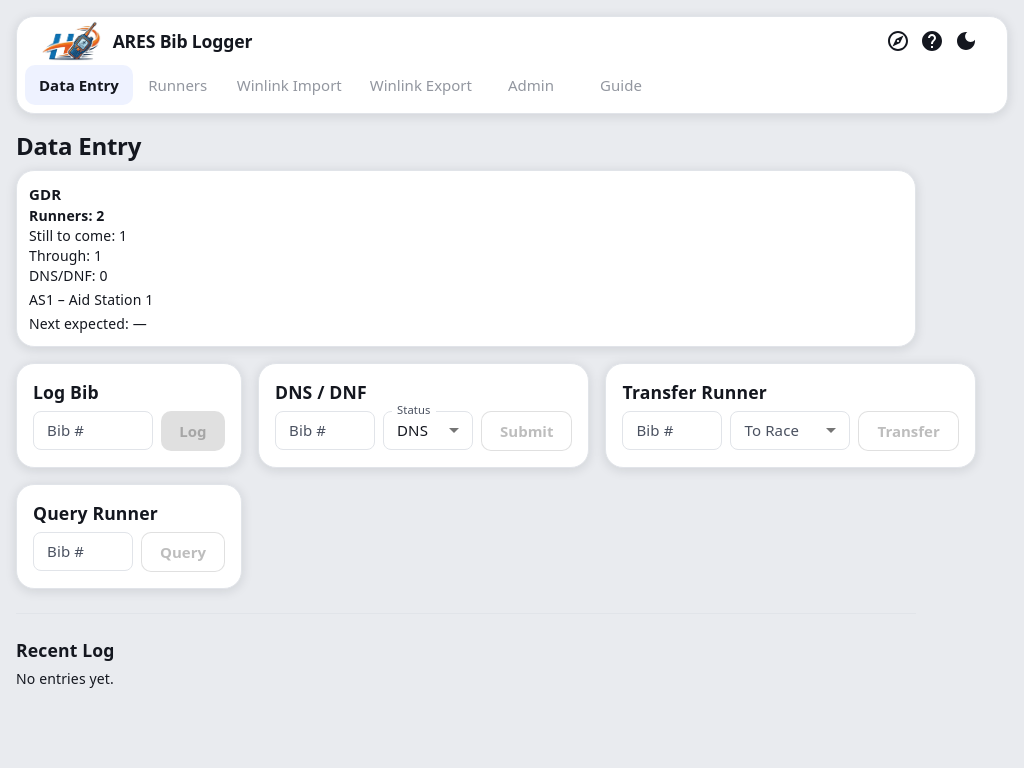
Test: App › switches to Winlink Import tab on click
Click the tab "Winlink Import" at (289, 85), box [223,65,356,105]
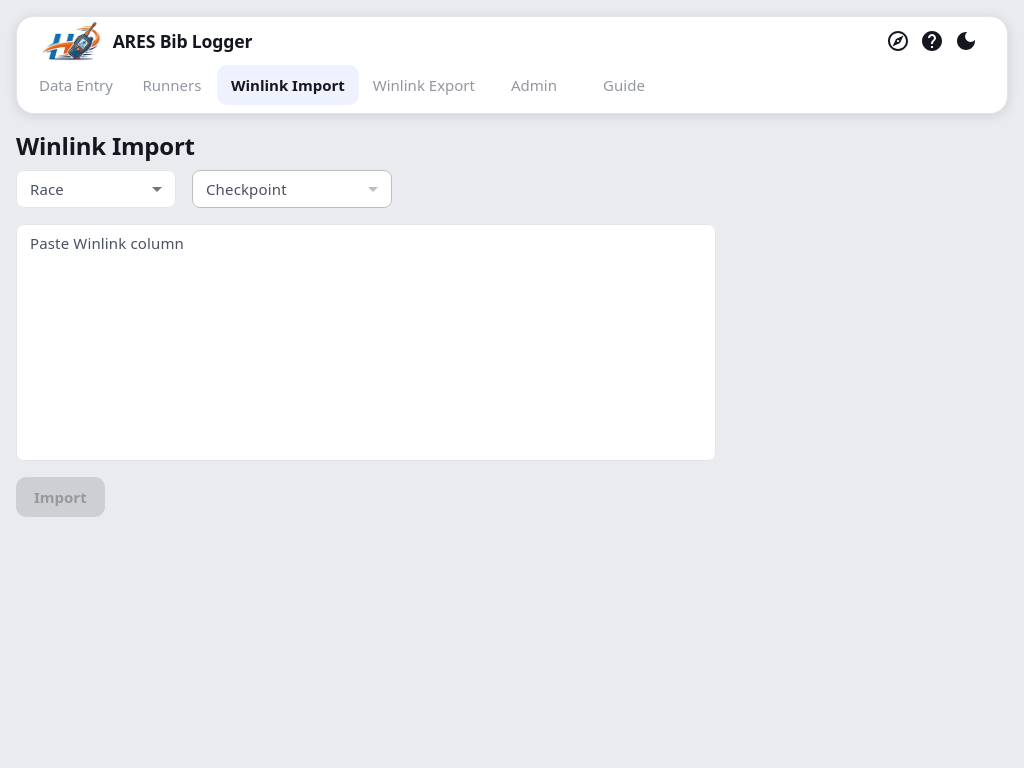
Expected: the heading "Winlink Import" is shown, [16,129,195,162]
